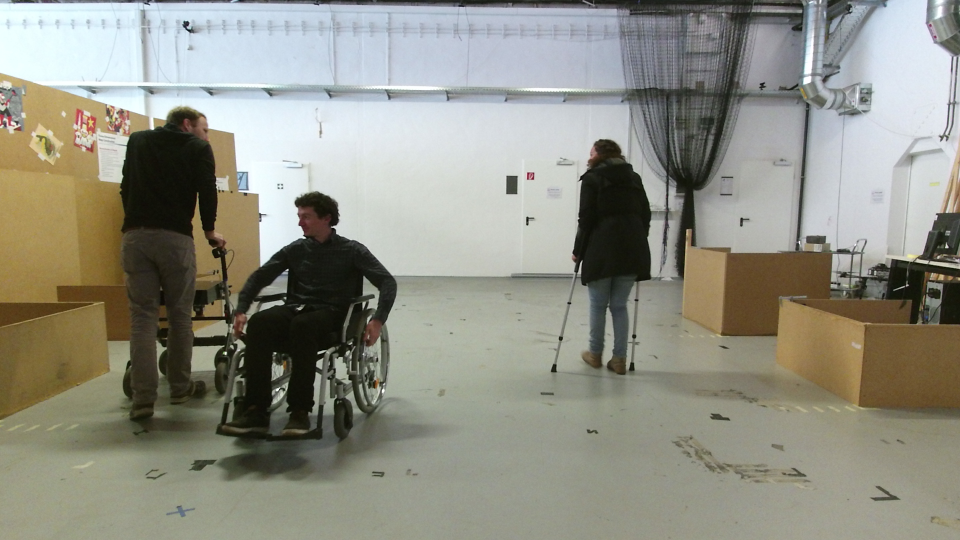crutches: (545, 137, 654, 373)
wheelchair: (214, 192, 396, 437)
